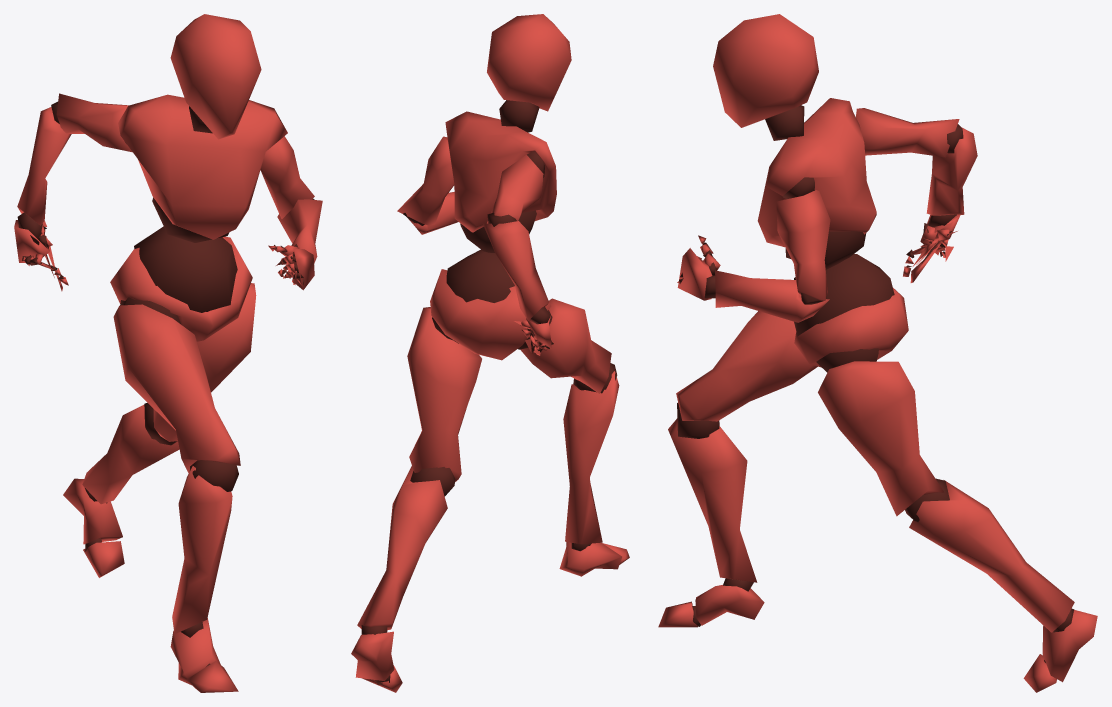
3 views of the same model, side by side, from view 1: azimuth 30°, elevation 25°; view 2: azimuth 150°, elevation 25°; view 3: azimuth 270°, elevation 25° (orthographic). The views are drawn at different scales.
Parts seen in each view (by area): view 1: Beta_Surface.001; view 2: Beta_Surface.001; view 3: Beta_Surface.001.
Boxes of the visible parts, box(x1,y1,x2,y2) form: Beta_Surface.001: box(14, 14, 322, 692); Beta_Surface.001: box(351, 14, 629, 692); Beta_Surface.001: box(658, 14, 1097, 692).
Bounding box in the file's own units: 5.42 × 14.78 × 8.89.
